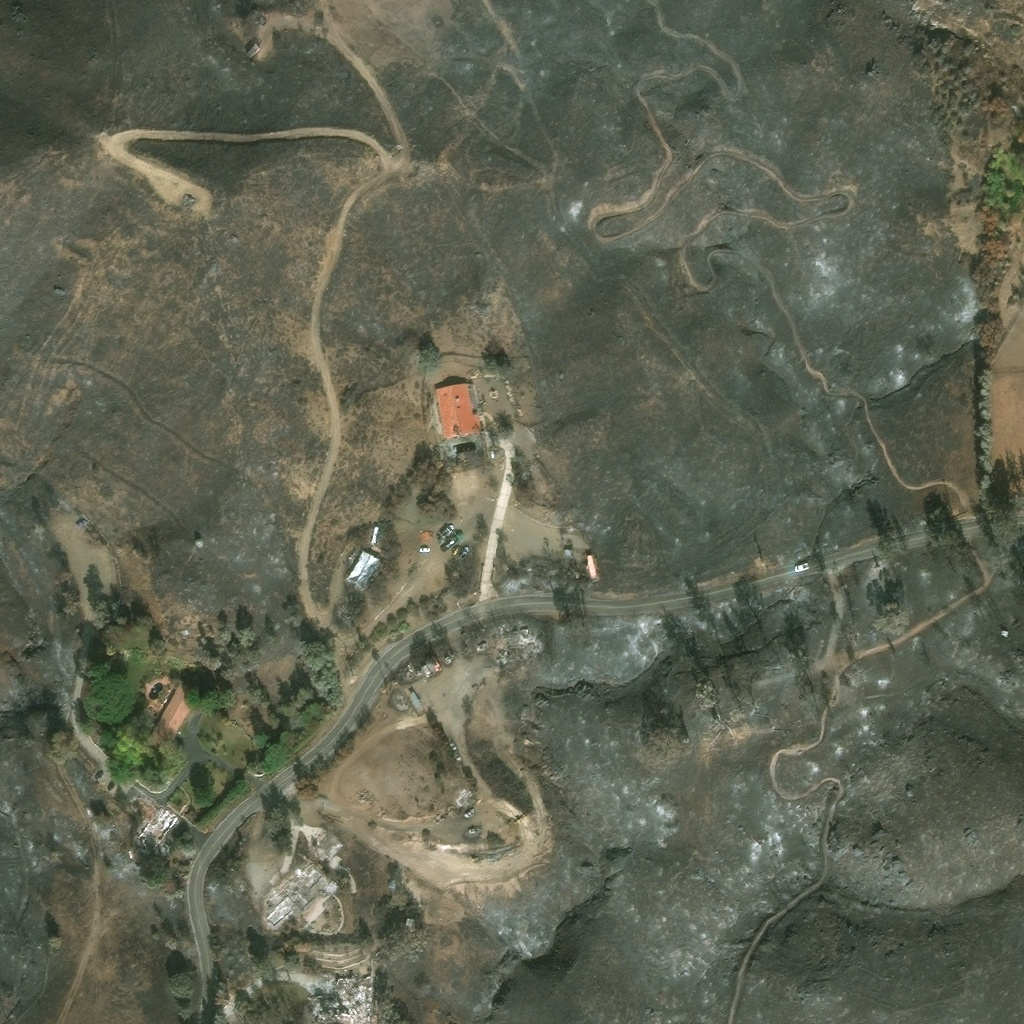0 no-damage: (151, 682, 198, 743), (433, 383, 481, 440), (584, 554, 600, 577), (562, 548, 574, 562), (194, 538, 203, 548)
2 major-damage: (343, 548, 381, 591)
3 destroyed: (261, 858, 327, 930), (127, 793, 179, 853), (309, 974, 372, 1023), (314, 830, 342, 860), (503, 640, 523, 664), (106, 595, 126, 617), (456, 788, 476, 807), (183, 194, 197, 205)
